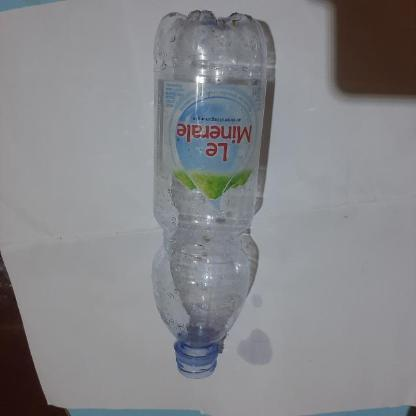Plastic Bottle: (124, 8, 282, 360)
